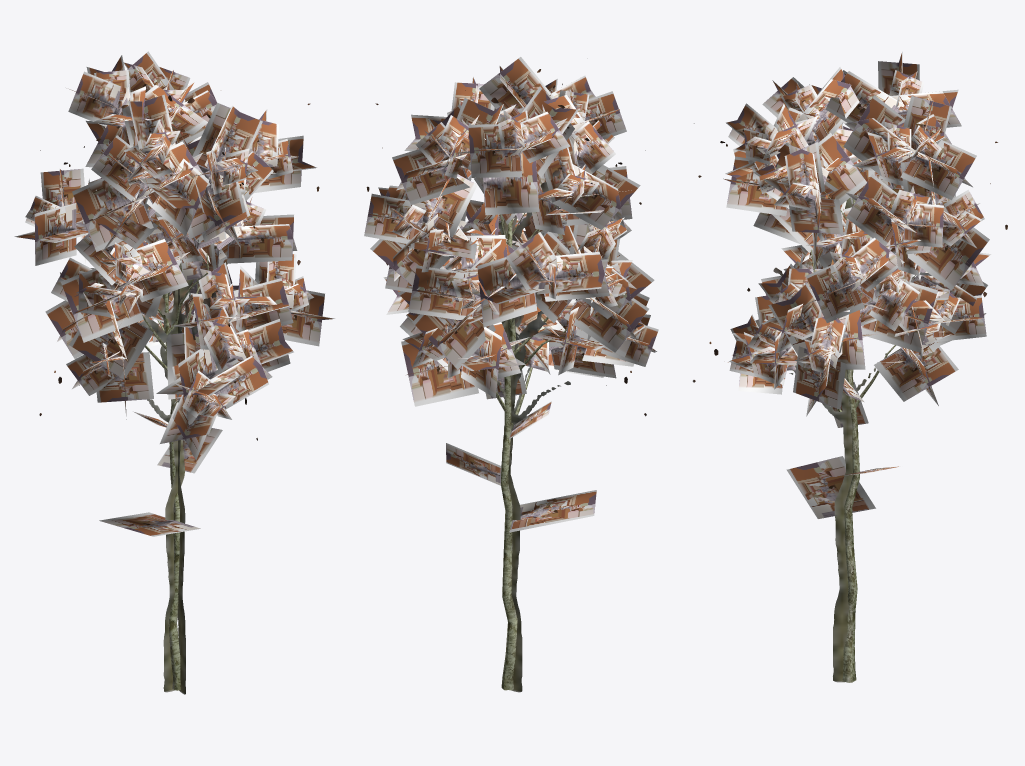
File: Tree-Beech0D.fbx
The picture shows the model from 3 angles, left to right: view 1: azimuth 30°, elevation 25°; view 2: azimuth 150°, elevation 25°; view 3: azimuth 270°, elevation 25°; orthographic projection. The views are drawn at different scales.
Visible parts, largest first — view 1: Tree-Beech0D_LOD0, Billboard-BeechD; view 2: Tree-Beech0D_LOD0, Billboard-BeechD; view 3: Tree-Beech0D_LOD0, Billboard-BeechD.
Boxes of the visible parts, left/top/right/bottom form: Tree-Beech0D_LOD0: left=14, top=51, right=334, bottom=690; Billboard-BeechD: left=39, top=95, right=319, bottom=694; Tree-Beech0D_LOD0: left=364, top=57, right=658, bottom=690; Billboard-BeechD: left=366, top=69, right=646, bottom=692; Tree-Beech0D_LOD0: left=723, top=52, right=991, bottom=682; Billboard-BeechD: left=692, top=99, right=1007, bottom=682.
Size of what is drawn, in the model's own units: 1286 by 2639 by 1286.
